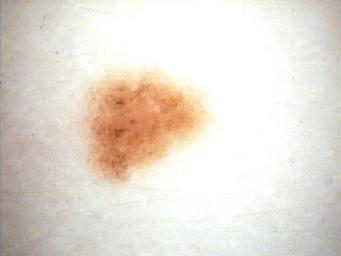nevus: (83, 69, 209, 183)
